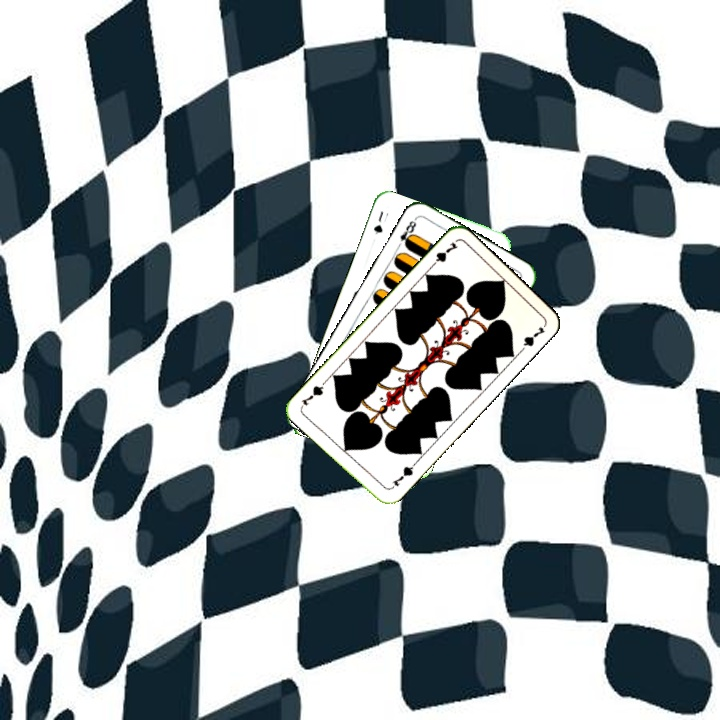E8: (393, 214, 419, 251)
G7: (426, 238, 461, 271), (387, 459, 418, 492)
GU: (369, 207, 391, 237)
